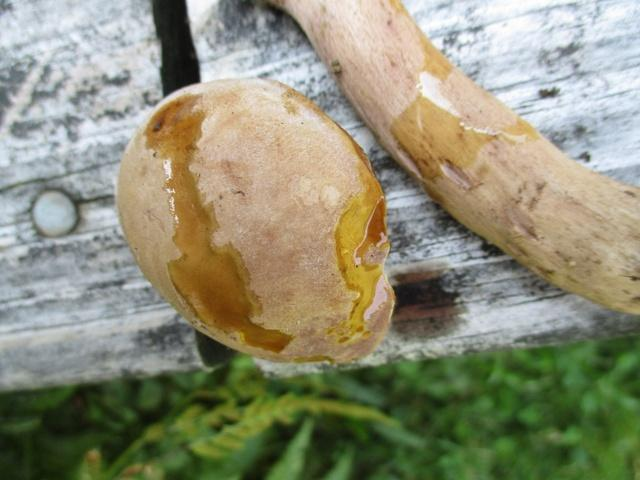Non-edible Mushroom: (268, 0, 640, 319), (113, 75, 397, 366)
